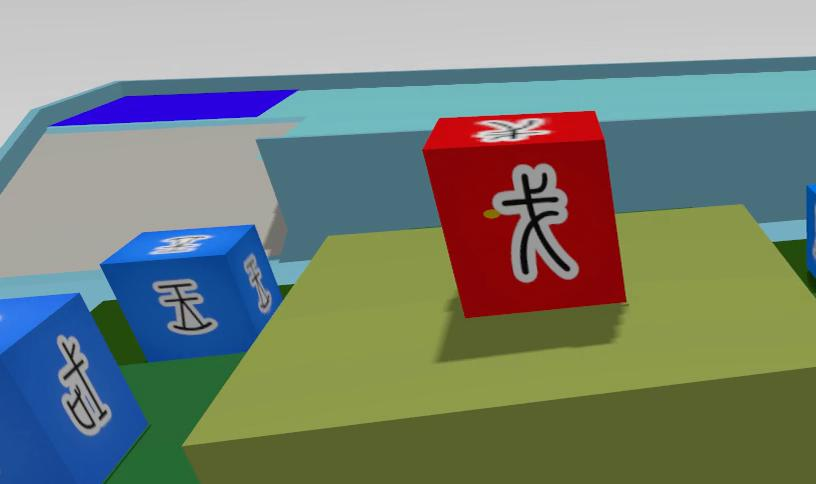KFS_FAKE: (422, 111, 625, 316), (494, 164, 578, 282), (473, 117, 548, 142)
KFS_REAL: (0, 295, 147, 484), (101, 225, 281, 360), (57, 335, 110, 435), (152, 280, 215, 334), (807, 185, 816, 277)
